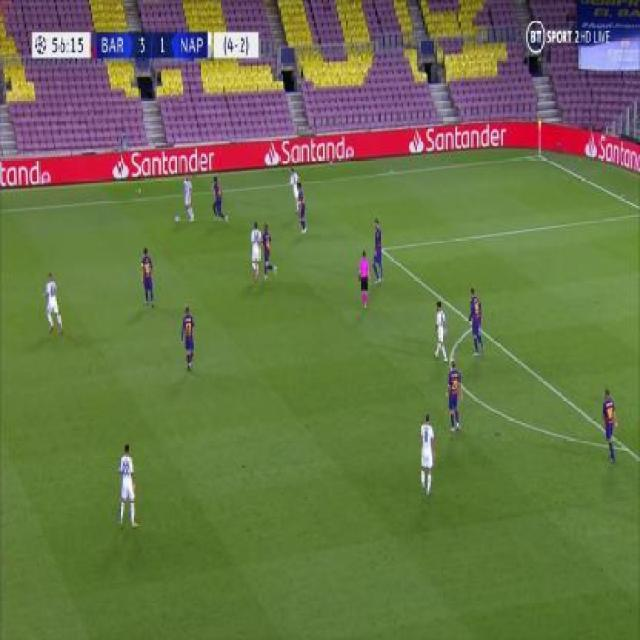ball: (174, 211, 180, 224)
player: (116, 440, 139, 531), (417, 409, 437, 497), (600, 383, 619, 463), (41, 271, 64, 336), (466, 285, 486, 358), (445, 358, 464, 434), (179, 303, 196, 372), (369, 216, 385, 285), (433, 300, 450, 363), (356, 246, 372, 311), (261, 219, 277, 282), (140, 246, 156, 309), (210, 174, 229, 225), (249, 218, 263, 280), (182, 172, 196, 223), (296, 185, 309, 236), (288, 166, 302, 211)
